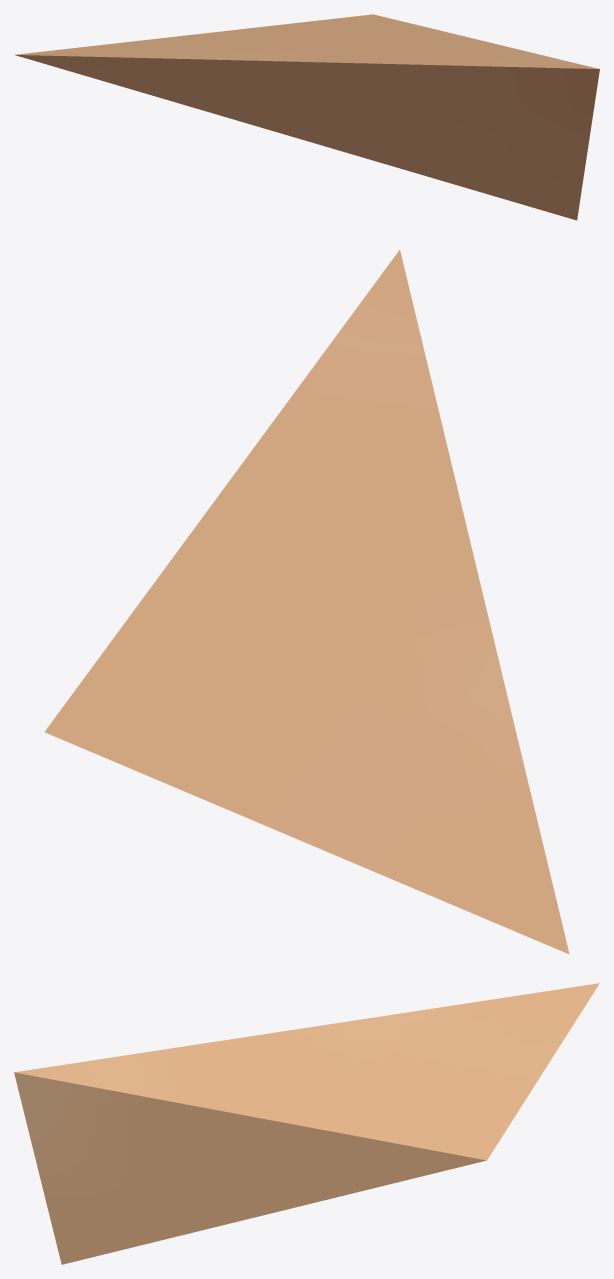
Rendered from cart_s04.fbx.
3 renders of one model, top to bottom at view 1: azimuth 30°, elevation 25°; view 2: azimuth 150°, elevation 25°; view 3: azimuth 270°, elevation 25°, orthographic. The views are drawn at different scales.
Parts seen in each view (by area): view 1: cart_s04; view 2: cart_s04; view 3: cart_s04.
Boxes of the visible parts, <box> form: cart_s04: <box>14,14,599,220</box>; cart_s04: <box>44,250,569,954</box>; cart_s04: <box>14,983,599,1264</box>.
Size of the model in its own units: 0.1668 by 0.0788 by 0.2158.
